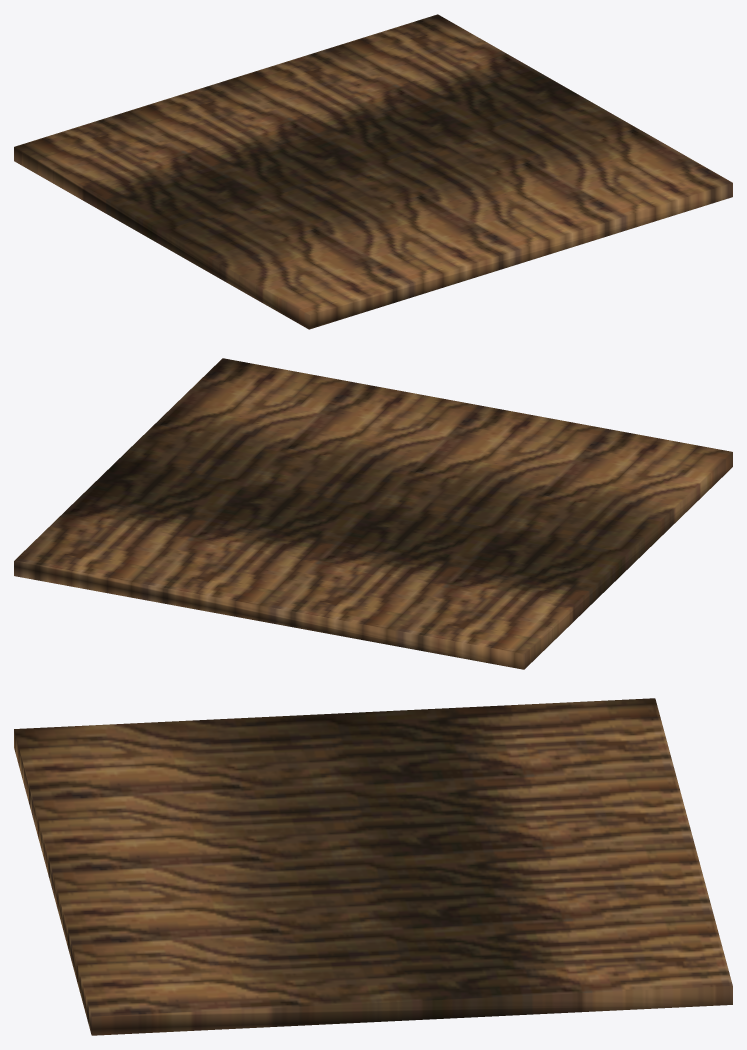
Rendered from SWORDLIGHT20_MAINCAVPLAT01CONV03.fbx.
3 renders of one model, top to bottom at view 1: azimuth 30°, elevation 25°; view 2: azimuth 150°, elevation 25°; view 3: azimuth 270°, elevation 25°, orthographic. The views are drawn at different scales.
Parts seen in each view (by area): view 1: SWORDLIGHT20_MAINCAVPLAT01CONV03; view 2: SWORDLIGHT20_MAINCAVPLAT01CONV03; view 3: SWORDLIGHT20_MAINCAVPLAT01CONV03.
Boxes of the visible parts, left/top/right/bottom form: SWORDLIGHT20_MAINCAVPLAT01CONV03: left=14, top=14, right=732, bottom=329; SWORDLIGHT20_MAINCAVPLAT01CONV03: left=14, top=358, right=732, bottom=669; SWORDLIGHT20_MAINCAVPLAT01CONV03: left=14, top=698, right=732, bottom=1035.
Bounding box in the file's own units: 92207 × 2500 × 87831.
1 material, 1 textured.
